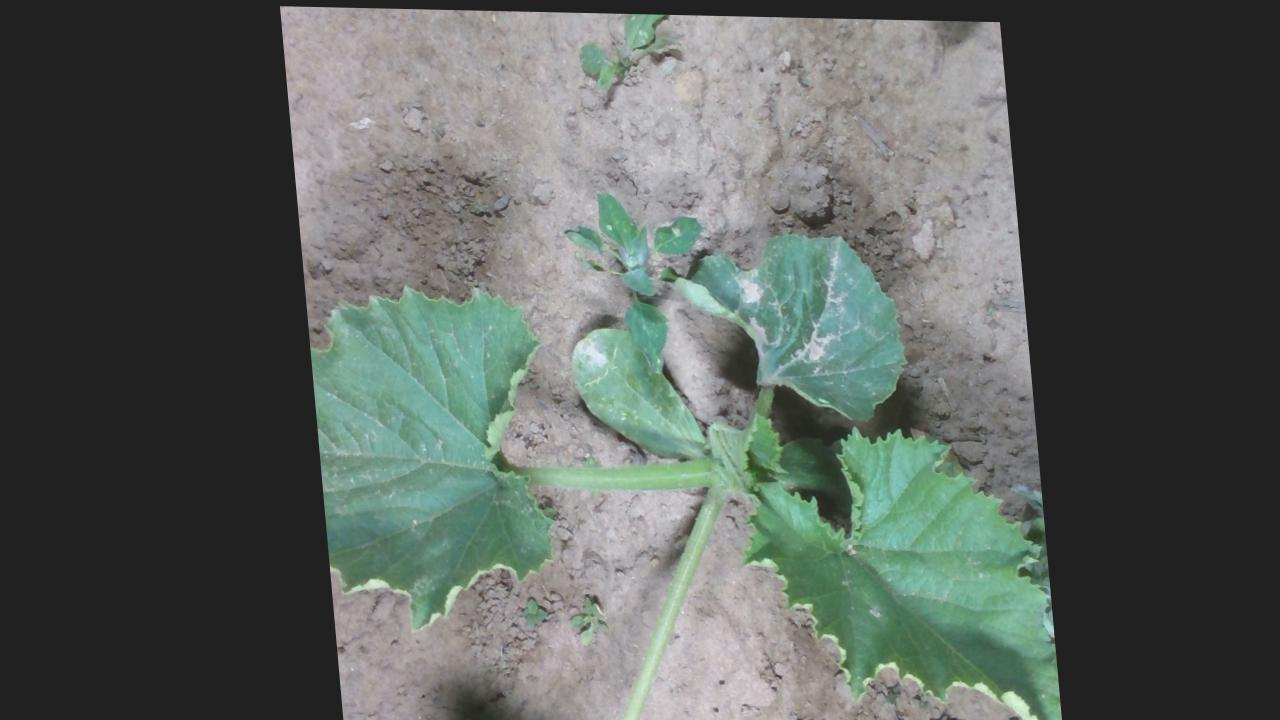weed: (573, 10, 687, 99)
